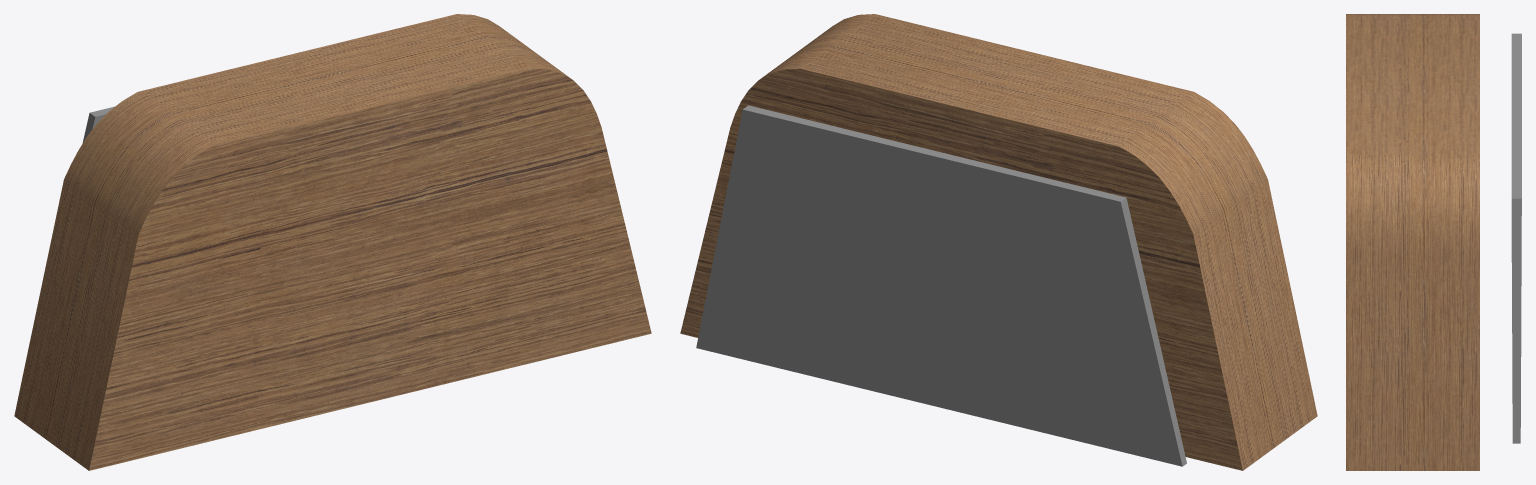
The model's file is Clocl.FBX.
The picture shows the model from 3 angles, left to right: view 1: azimuth 30°, elevation 25°; view 2: azimuth 150°, elevation 25°; view 3: azimuth 270°, elevation 25°; orthographic projection. The views are drawn at different scales.
Parts seen in each view (by area): view 1: Line001; view 2: Box001, Line001; view 3: Line001, Box001.
Part boxes in pixels (box(x1,y1,x2,y2)): Line001: box(14, 14, 651, 470); Box001: box(696, 105, 1186, 466); Line001: box(680, 14, 1317, 470); Line001: box(1346, 14, 1479, 470); Box001: box(1511, 33, 1521, 443).
Bounding box in the file's own units: 80.48 × 40.22 × 24.34.
2 materials, 1 textured.
